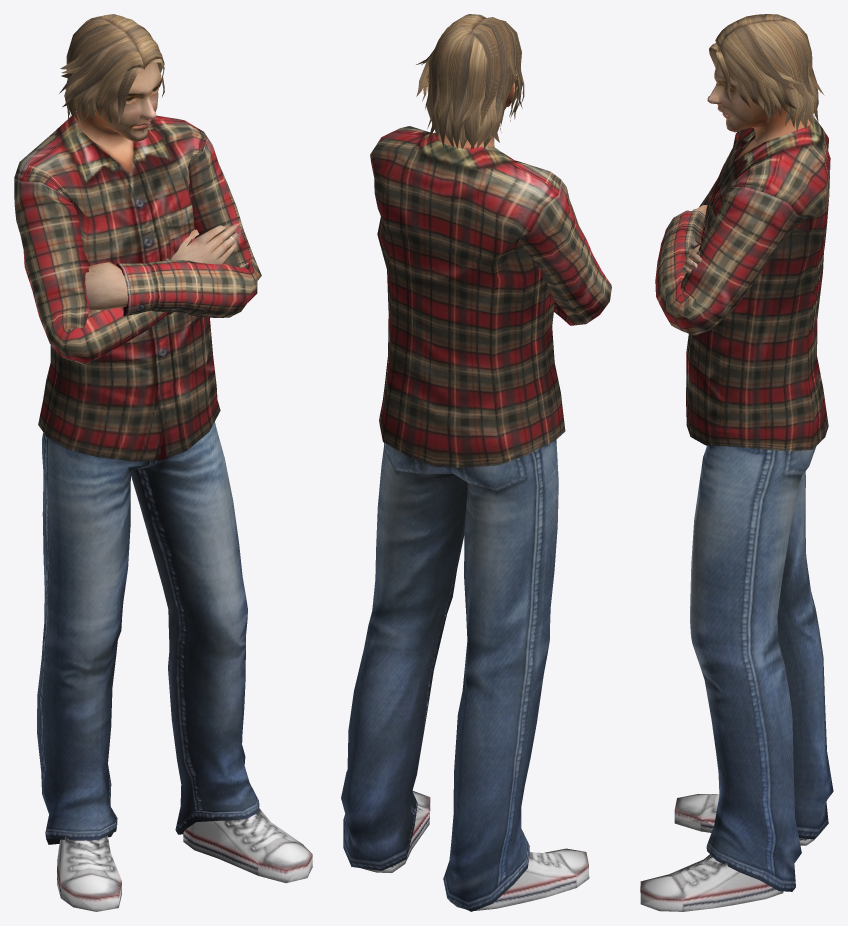
File: citizen_male.dae
3 views of the same model, side by side, from view 1: azimuth 30°, elevation 25°; view 2: azimuth 150°, elevation 25°; view 3: azimuth 270°, elevation 25° (orthographic). The views are drawn at different scales.
Parts seen in each view (by area): view 1: skp19CD; view 2: skp19CD; view 3: skp19CD.
Boxes of the visible parts, x1=… form: skp19CD: x1=14, y1=14, x2=312, y2=911; skp19CD: x1=341, y1=14, x2=611, y2=911; skp19CD: x1=640, y1=14, x2=833, y2=911.
Size of the model in its own units: 55.75 by 39.09 by 184.
4 materials, 3 textured.
